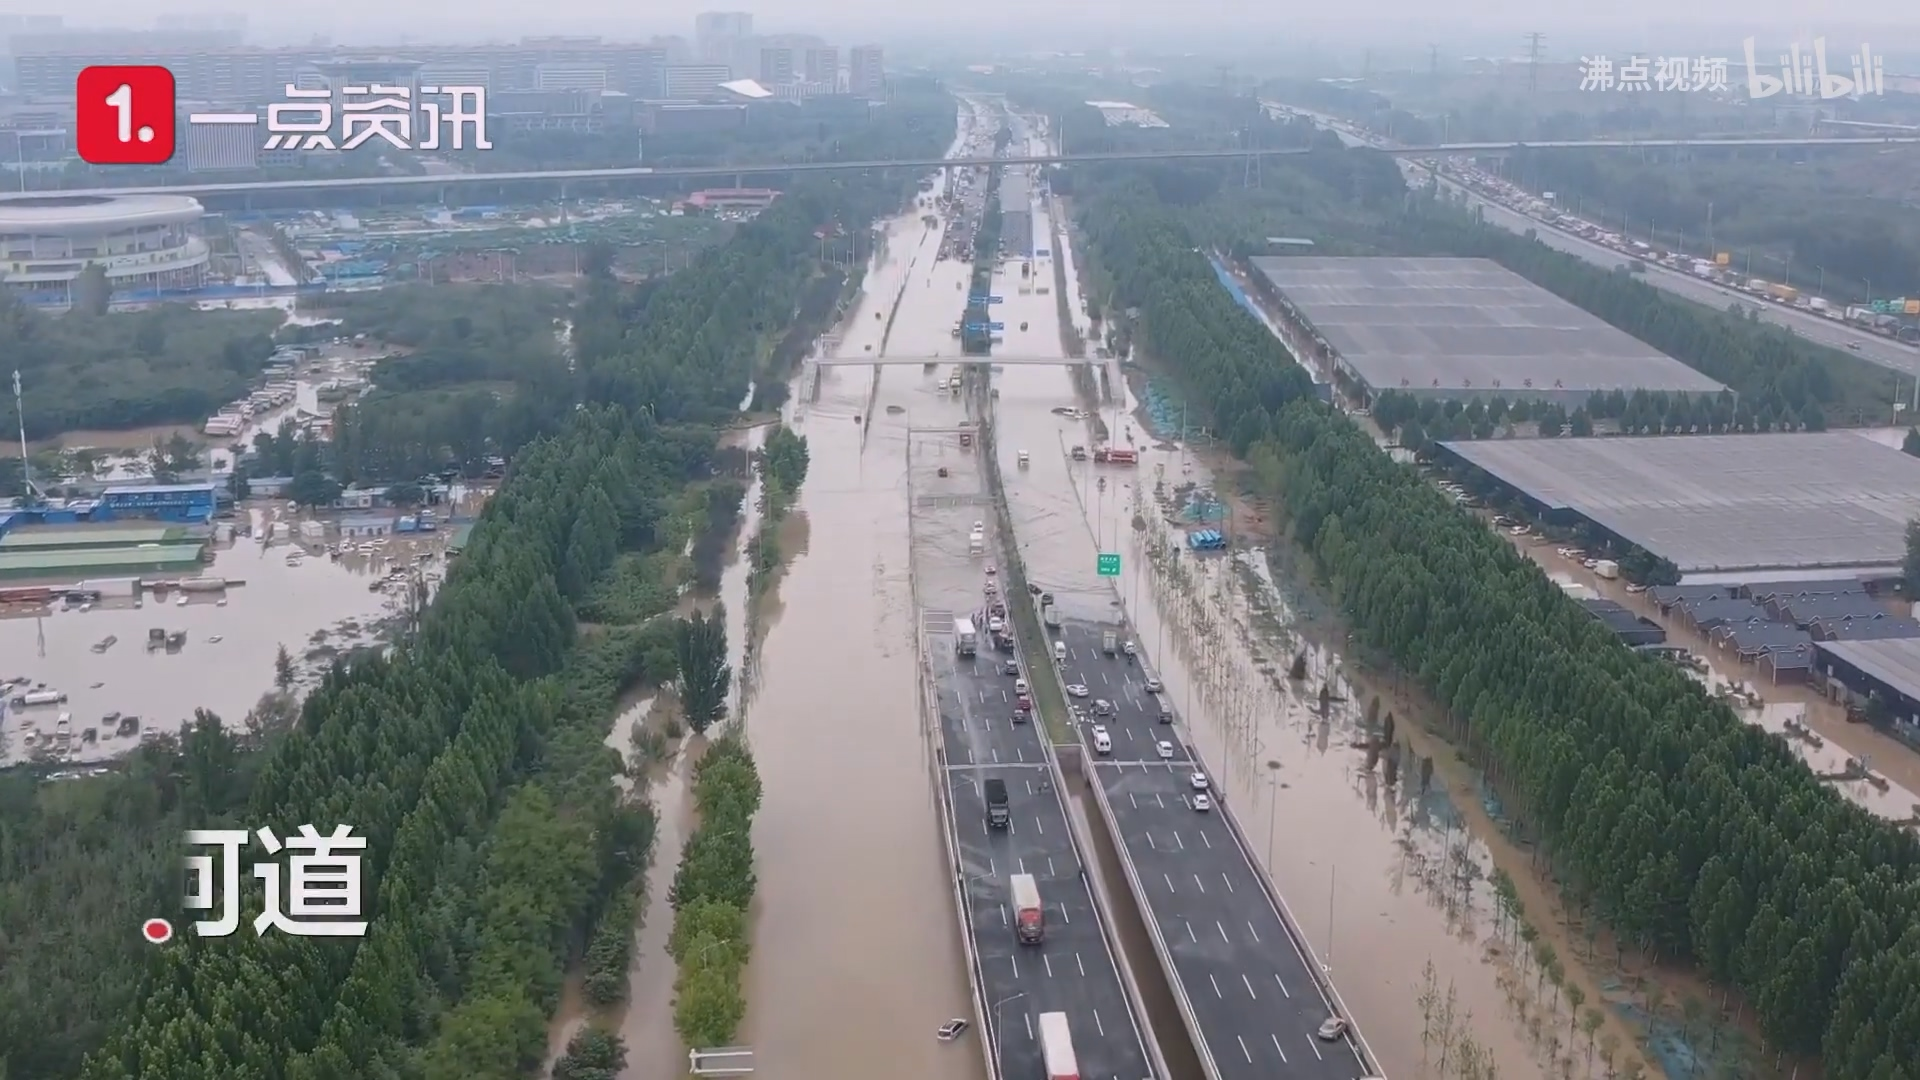puddle: (695, 433, 990, 1080), (1175, 531, 1449, 952)
